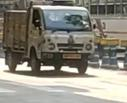Truck: (2, 4, 94, 77)
